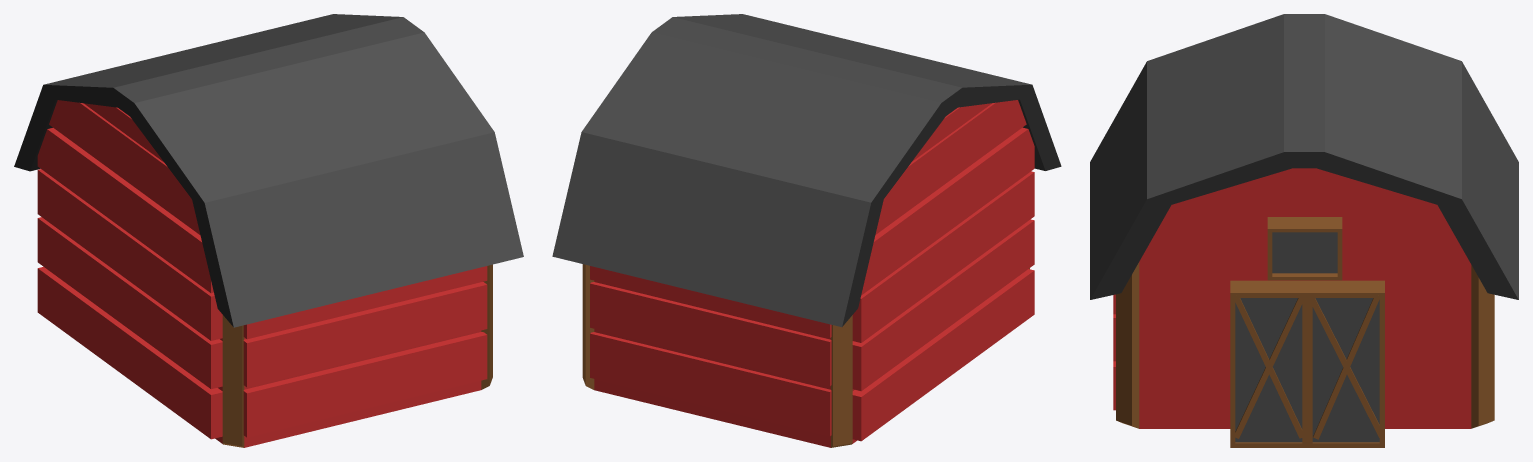
File: BARN.fbx
3 renders of one model, left to right at view 1: azimuth 30°, elevation 25°; view 2: azimuth 150°, elevation 25°; view 3: azimuth 270°, elevation 25°, orthographic. The views are drawn at different scales.
Parts seen in each view (by area): view 1: Cube.065; view 2: Cube.065; view 3: Cube.065.
Boxes of the visible parts, x1=… form: Cube.065: x1=14, y1=14, x2=523, y2=447; Cube.065: x1=552, y1=14, x2=1061, y2=447; Cube.065: x1=1090, y1=14, x2=1518, y2=447.
Bounding box in the file's own units: 3448 × 3236 × 4338.
